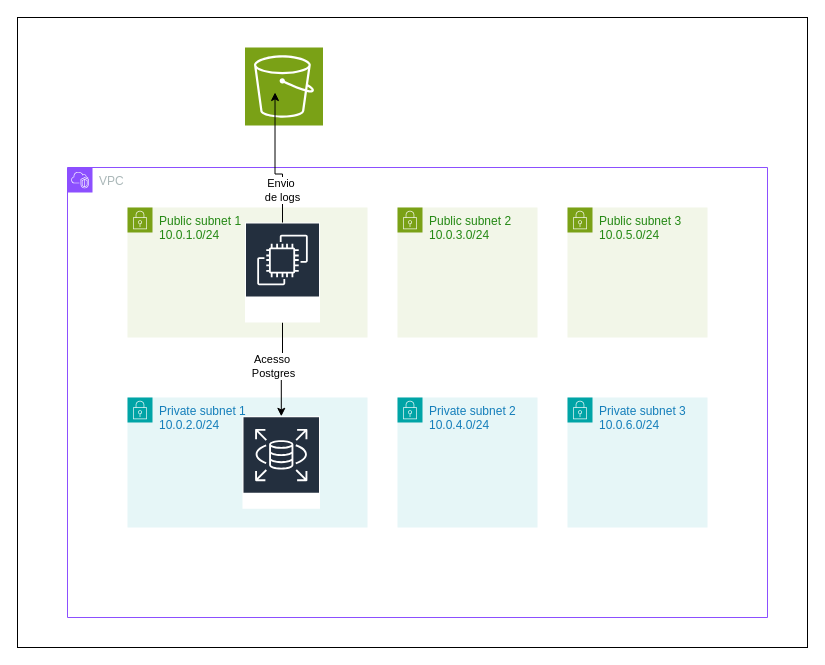
Image size: 825x665. Some labels were removed from this diagram. The centre of each missing label's shape, as x and y in pixels:
"Amazon EC2" belongs at point (282, 272).
"Amazon RDS" belongs at point (281, 462).
